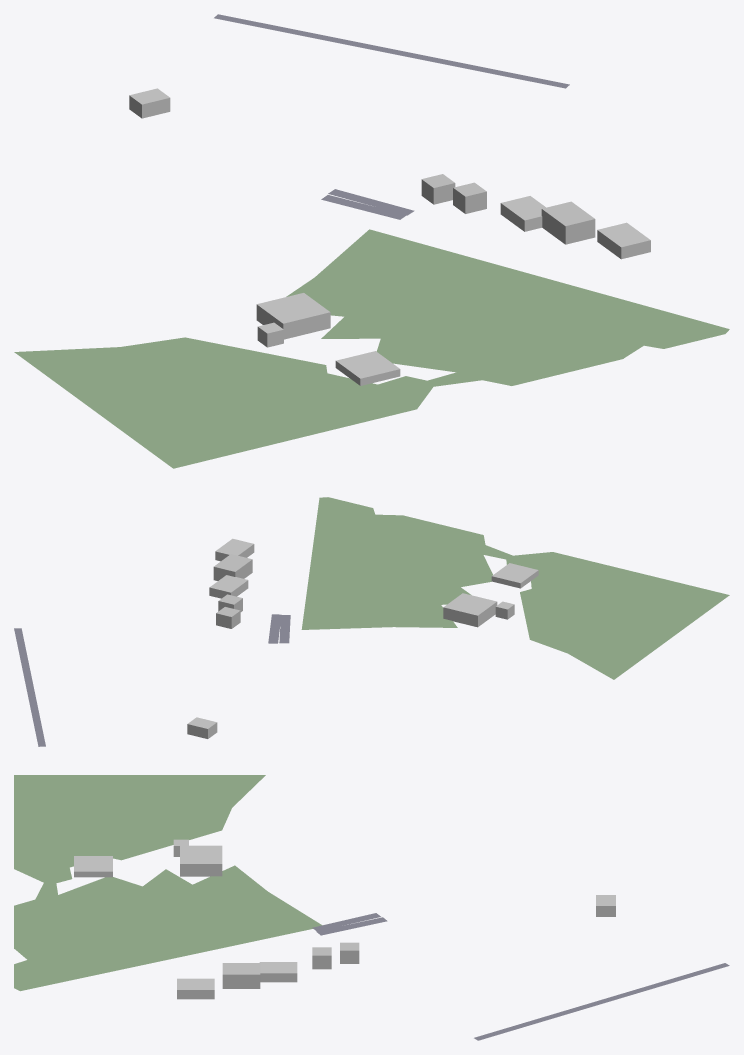
File: 110_74_mid.glb
3 views of the same model, one above another, from view 1: azimuth 30°, elevation 25°; view 2: azimuth 150°, elevation 25°; view 3: azimuth 270°, elevation 25° (orthographic). The views are drawn at different scales.
Bounding box in the file's own units: 531 × 14.32 × 604.
